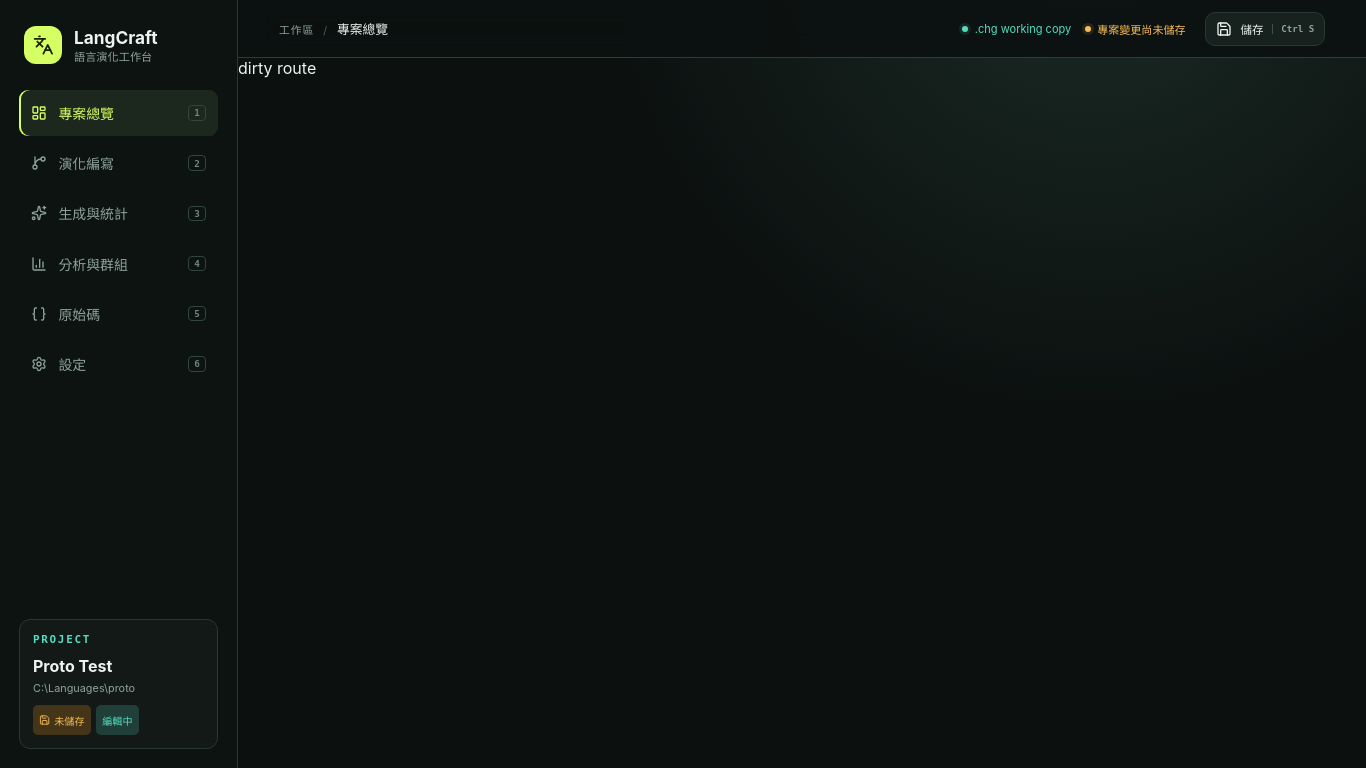
Scenario: Shell desktop commands › keeps the current route and draft when saving before navigation fails
Click the link "分析與群組 4" at (118, 264), box x1=31 y1=252 x2=206 y2=276
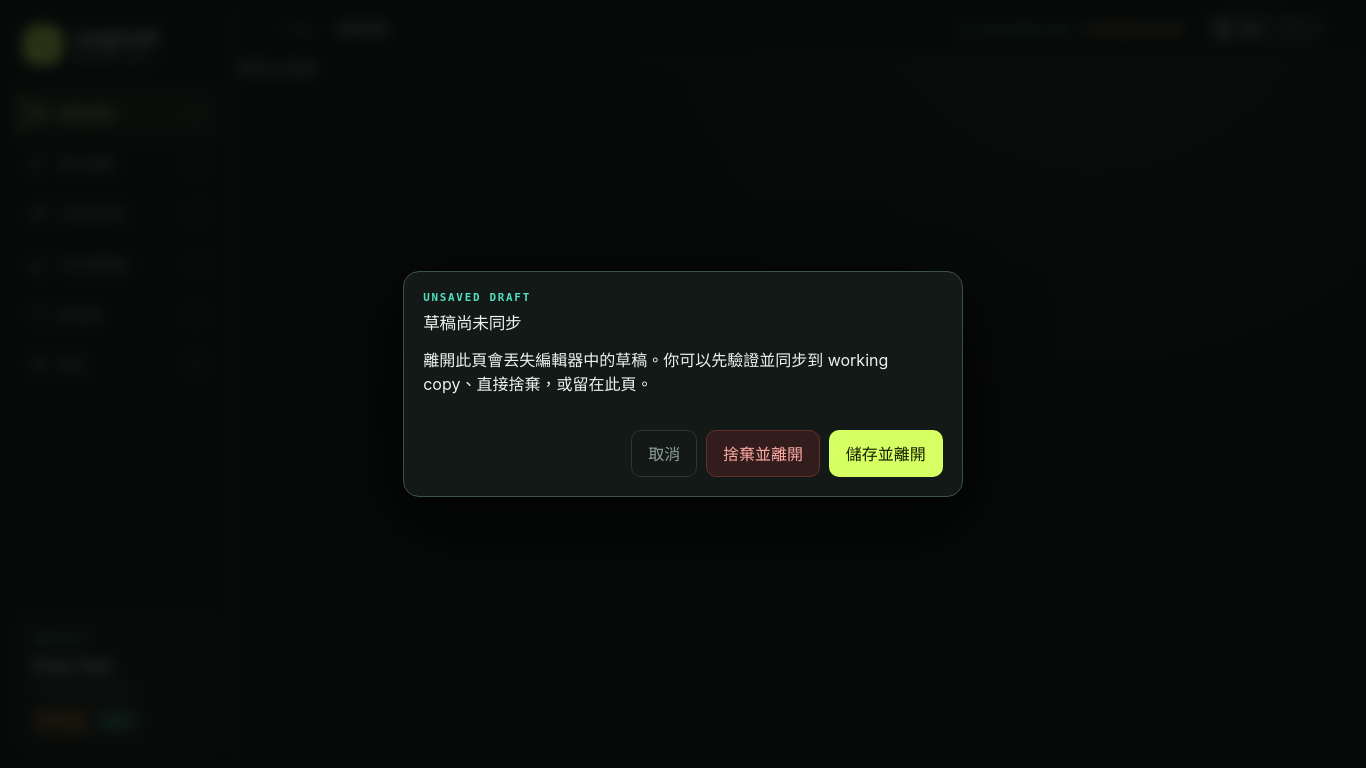
Click the button "儲存並離開" at (886, 453), box x1=829 y1=430 x2=943 y2=477
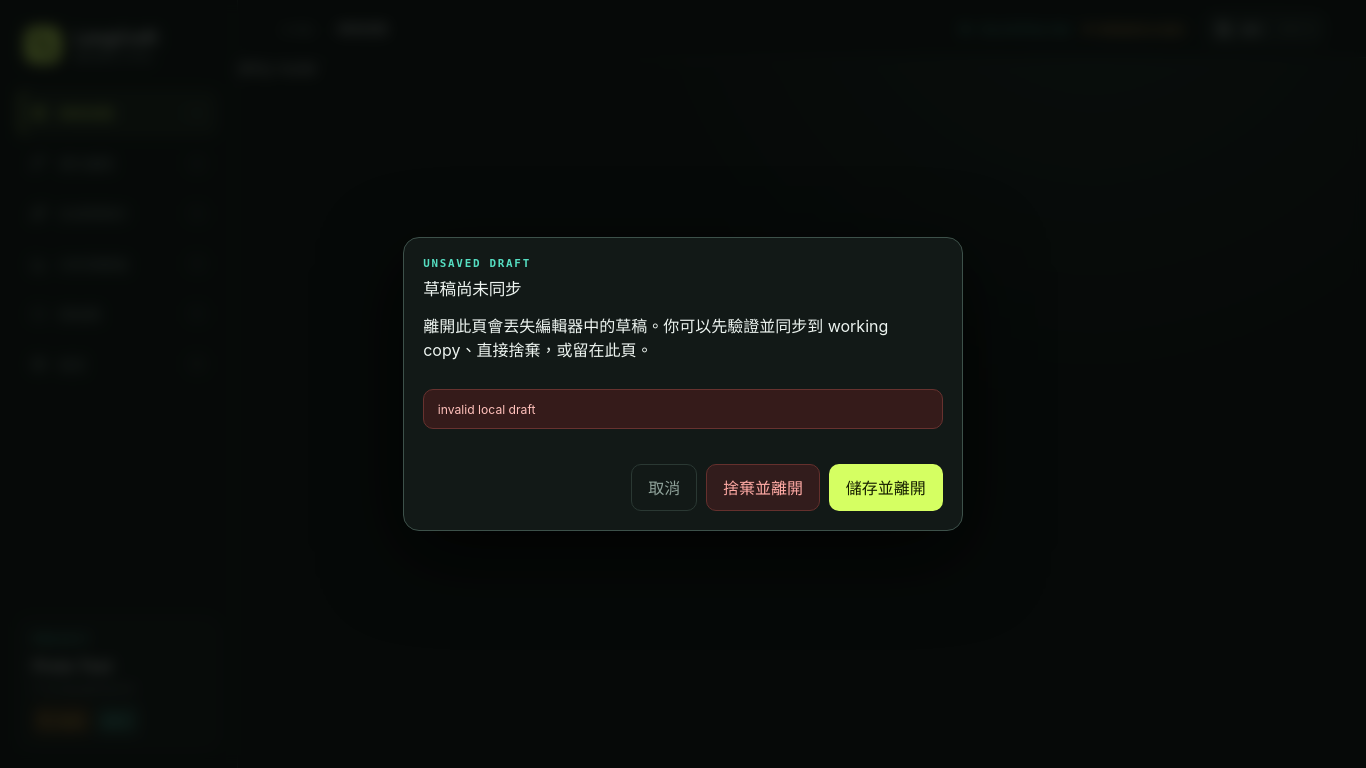
Result: the message reads "invalid local draft" at x1=438 y1=402 x2=536 y2=417
